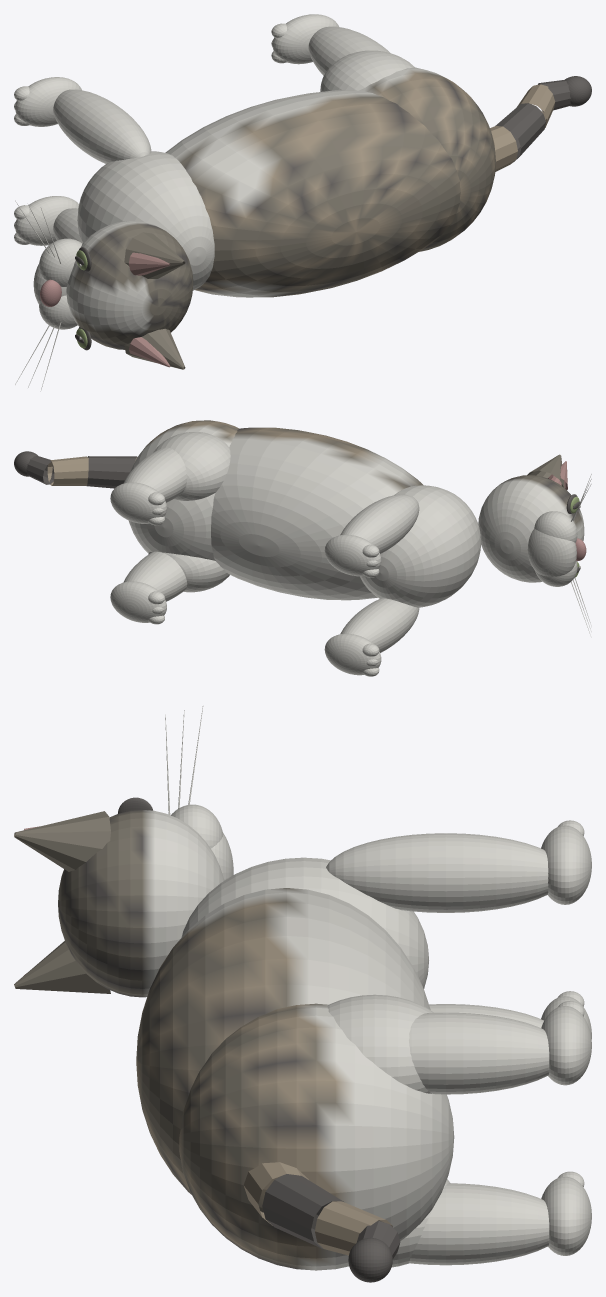
Rendered from doujiang_blockout.glb.
The picture shows the model from 3 angles, top to bottom: view 1: azimuth 30°, elevation 25°; view 2: azimuth 150°, elevation 25°; view 3: azimuth 270°, elevation 25°; orthographic projection. The views are drawn at different scales.
Parts seen in each view (by area): view 1: body_saddle_white_belly, head_tabby_white_blaze, chest_white, rear_haunches, front_leg_left, hind_thigh_left, hind_leg_left, front_white_paw_left, front_white_paw_right, hind_white_paw_left, tail_ring_1, muzzle_left (+10 smaller); view 2: body_saddle_white_belly, chest_white, head_tabby_white_blaze, rear_haunches, hind_thigh_left, front_leg_left, front_leg_right, hind_leg_left, hind_leg_right, chin_white, hind_white_paw_left, hind_white_paw_right (+10 smaller); view 3: rear_haunches, body_saddle_white_belly, head_tabby_white_blaze, front_leg_left, hind_leg_left, hind_leg_right, chest_white, hind_thigh_left, ear_outer_left, tail_ring_1, front_white_paw_left, hind_white_paw_right (+8 smaller).
Boxes of the visible parts, left/top/right/bottom form: body_saddle_white_belly: left=165, top=90, right=460, bottom=297; head_tabby_white_blaze: left=66, top=221, right=193, bottom=349; chest_white: left=77, top=151, right=214, bottom=290; rear_haunches: left=359, top=67, right=495, bottom=251; front_leg_left: left=53, top=89, right=151, bottom=163; hind_thigh_left: left=320, top=50, right=414, bottom=91; hind_leg_left: left=308, top=26, right=389, bottom=75; front_white_paw_left: left=15, top=77, right=81, bottom=126; front_white_paw_right: left=15, top=196, right=78, bottom=245; hind_white_paw_left: left=272, top=14, right=338, bottom=64; tail_ring_1: left=495, top=103, right=545, bottom=162; muzzle_left: left=39, top=238, right=82, bottom=286; body_saddle_white_belly: left=211, top=427, right=423, bottom=600; chest_white: left=360, top=485, right=481, bottom=607; head_tabby_white_blaze: left=478, top=475, right=584, bottom=582; rear_haunches: left=128, top=420, right=238, bottom=560; hind_thigh_left: left=153, top=432, right=230, bottom=500; front_leg_left: left=340, top=494, right=419, bottom=553; front_leg_right: left=340, top=598, right=419, bottom=652; hind_leg_left: left=123, top=447, right=187, bottom=502; hind_leg_right: left=123, top=551, right=187, bottom=601; chin_white: left=527, top=528, right=576, bottom=576; hind_white_paw_left: left=110, top=482, right=166, bottom=523; hind_white_paw_right: left=110, top=581, right=166, bottom=622; rear_haunches: left=179, top=1003, right=454, bottom=1270; body_saddle_white_belly: left=136, top=888, right=430, bottom=1194; head_tabby_white_blaze: left=58, top=810, right=224, bottom=997; front_leg_left: left=326, top=833, right=548, bottom=912; hind_leg_left: left=409, top=1012, right=549, bottom=1094; hind_leg_right: left=409, top=1183, right=549, bottom=1265; chest_white: left=181, top=857, right=428, bottom=988; hind_thigh_left: left=327, top=994, right=433, bottom=1093; ear_outer_left: left=14, top=811, right=110, bottom=871; tail_ring_1: left=262, top=1174, right=343, bottom=1248; front_white_paw_left: left=541, top=825, right=591, bottom=904; hind_white_paw_right: left=541, top=1176, right=591, bottom=1255.
Size of the model in its own units: 2.51 by 0.7005 by 1.38.
